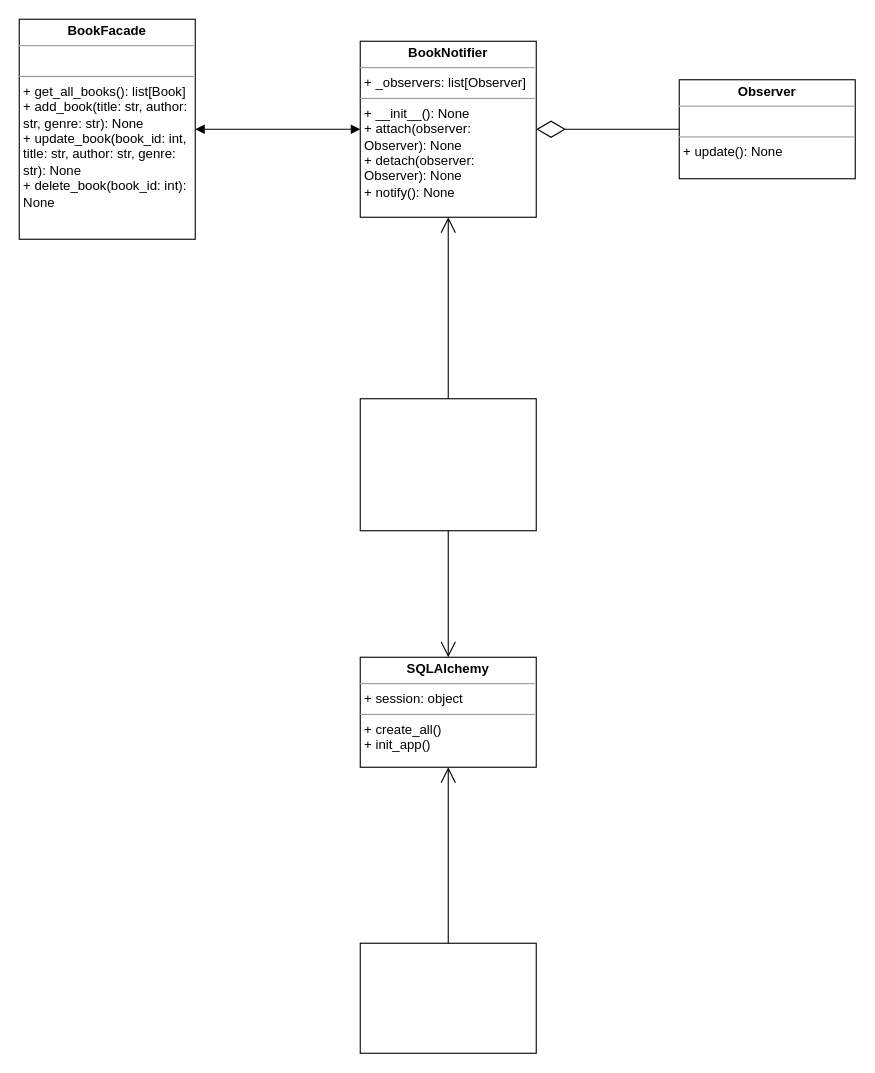
This 875x1073 diagram has some shape labels left out. Each missing label, with the box of its shape:
Book + id: int + title: str + author: str + genre: str: (359, 398, 536, 531)
Usuario + id: int + username: str + password: str: (359, 942, 536, 1053)
